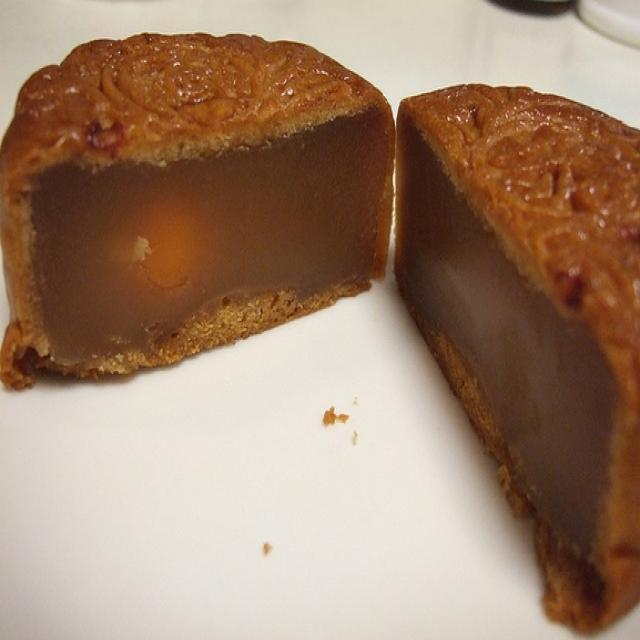蛋糕甜品: (10, 15, 636, 610)
